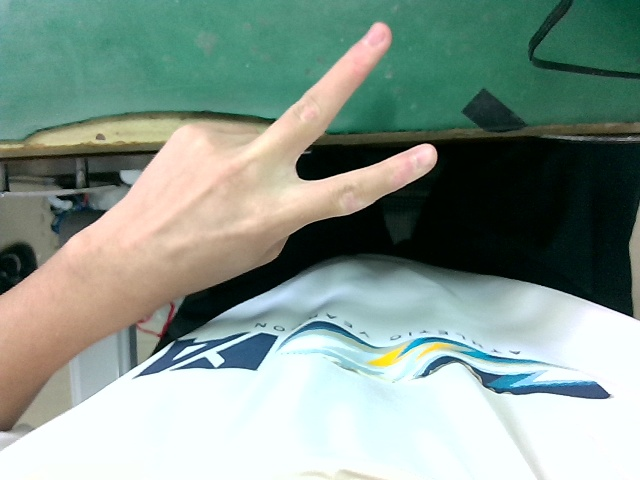scissor: (74, 18, 449, 327)
